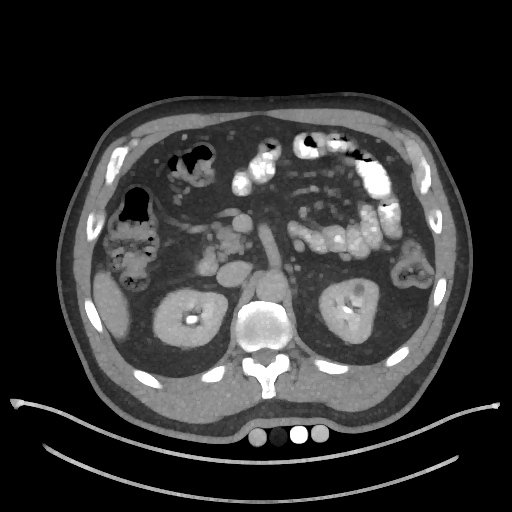Lesion: (348, 280, 371, 301)
